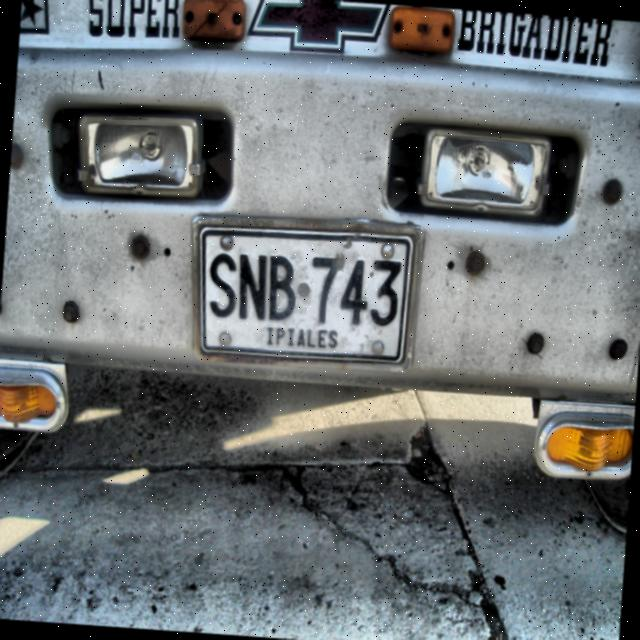3: (368, 258, 403, 328)
4: (337, 258, 371, 328)
7: (309, 255, 344, 324)
B: (267, 254, 297, 322)
N: (237, 252, 268, 322)
S: (208, 251, 238, 319)
